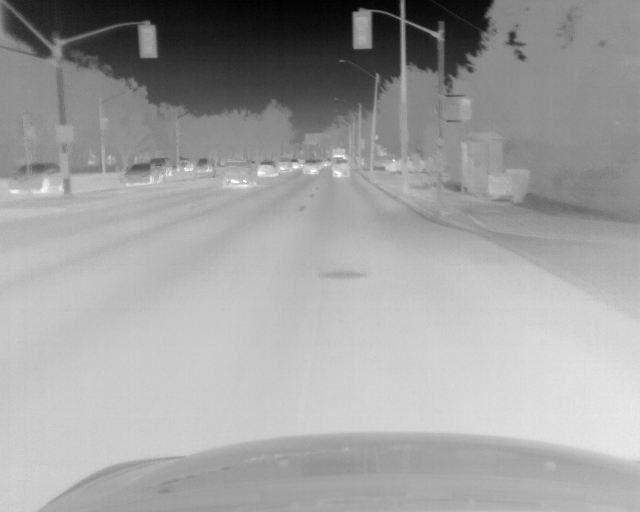car: (6, 162, 66, 196), (125, 163, 165, 186), (221, 160, 256, 185), (331, 153, 349, 181), (150, 157, 174, 176), (193, 158, 215, 178), (256, 159, 280, 177), (302, 160, 321, 179), (174, 159, 192, 173), (278, 158, 291, 174), (291, 158, 300, 171)
